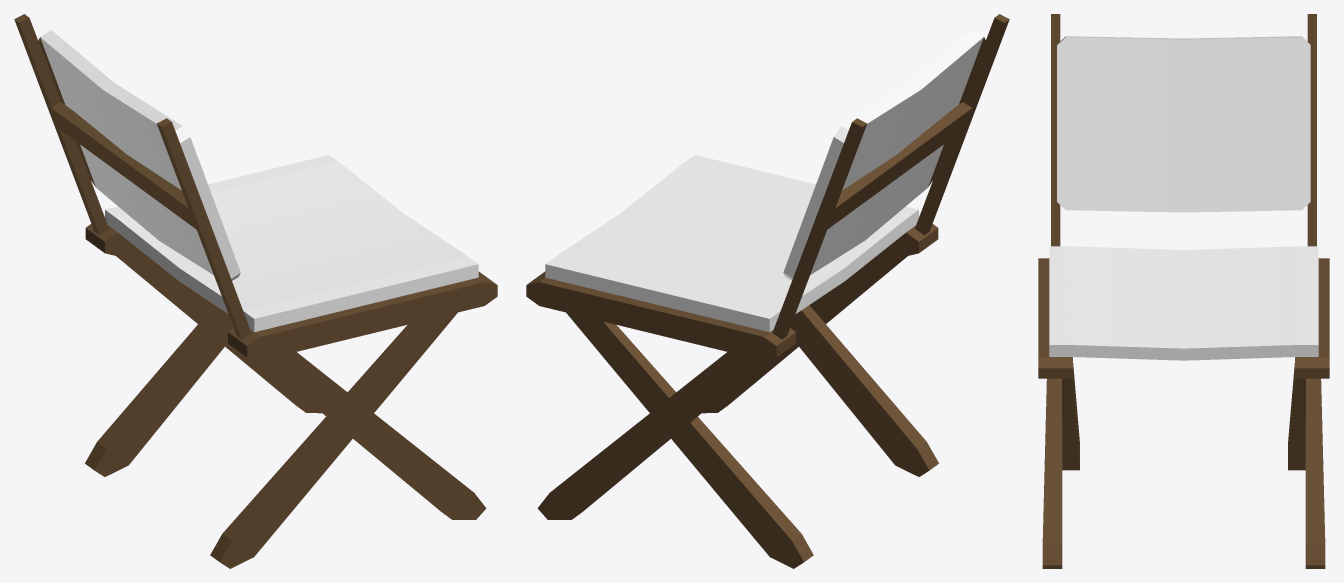
Rendered from chair.fbx.
3 views of the same model, side by side, from view 1: azimuth 30°, elevation 25°; view 2: azimuth 150°, elevation 25°; view 3: azimuth 270°, elevation 25° (orthographic). The views are drawn at different scales.
Visible parts, largest first — view 1: chair, chair_cushion; view 2: chair, chair_cushion; view 3: chair, chair_cushion.
Part boxes in pixels (x1,y1,x2,y2): chair: (14, 14, 497, 568); chair_cushion: (38, 30, 240, 280); chair: (526, 14, 1009, 568); chair_cushion: (783, 30, 985, 280); chair: (1038, 14, 1329, 568); chair_cushion: (1057, 36, 1310, 212).
Bounding box in the file's own units: 72.06 × 97.94 × 61.4.
